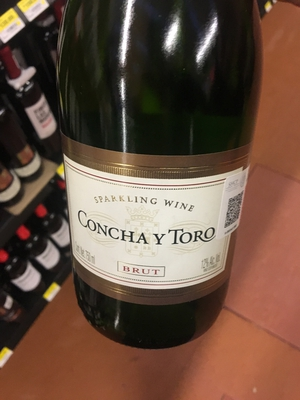brut: (55, 26, 279, 365)
